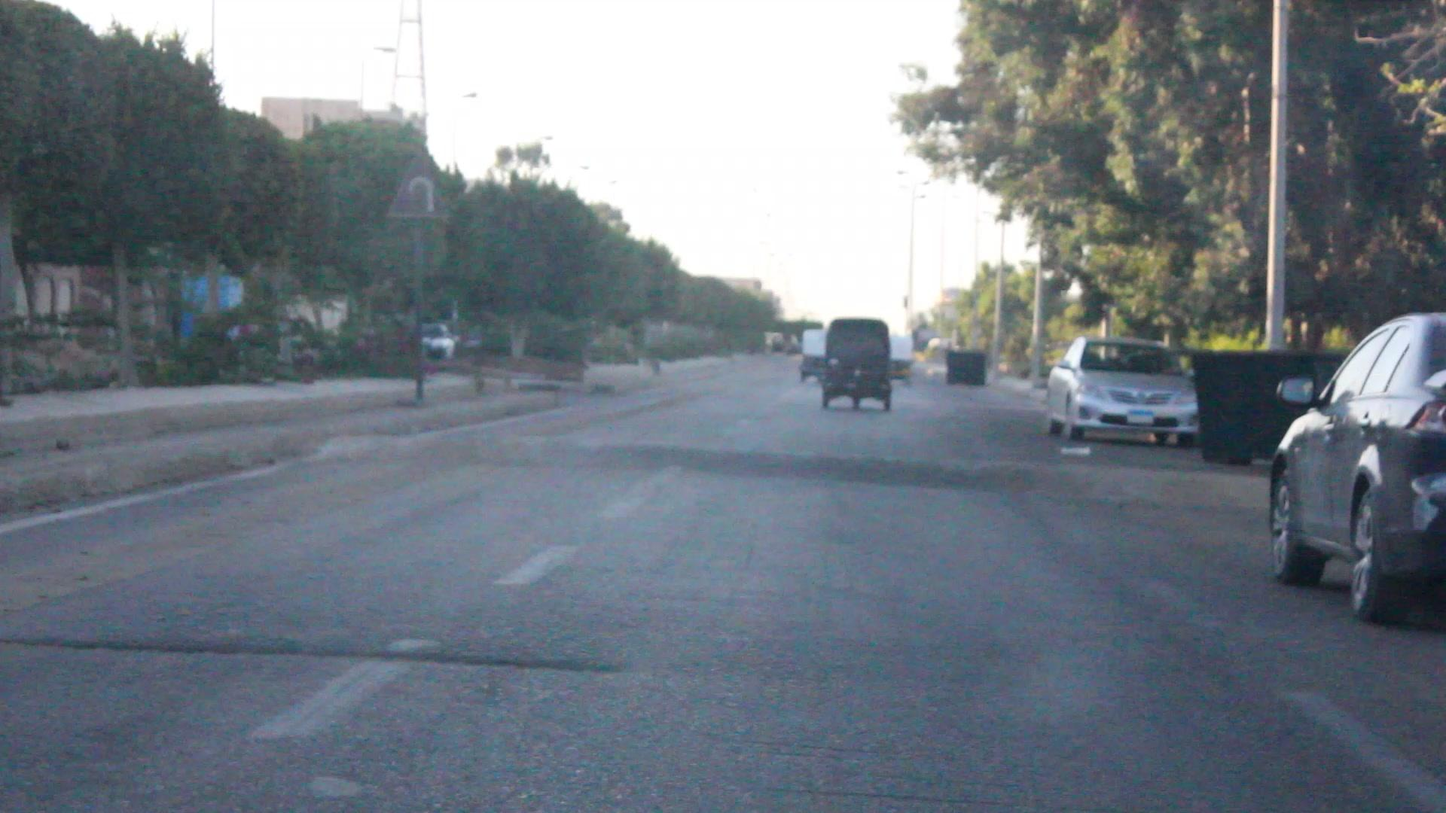Bump: (329, 418, 1265, 514)
